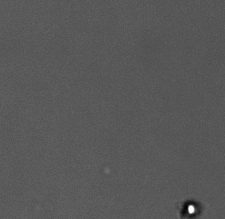Living Cell: (181, 200, 201, 217)
